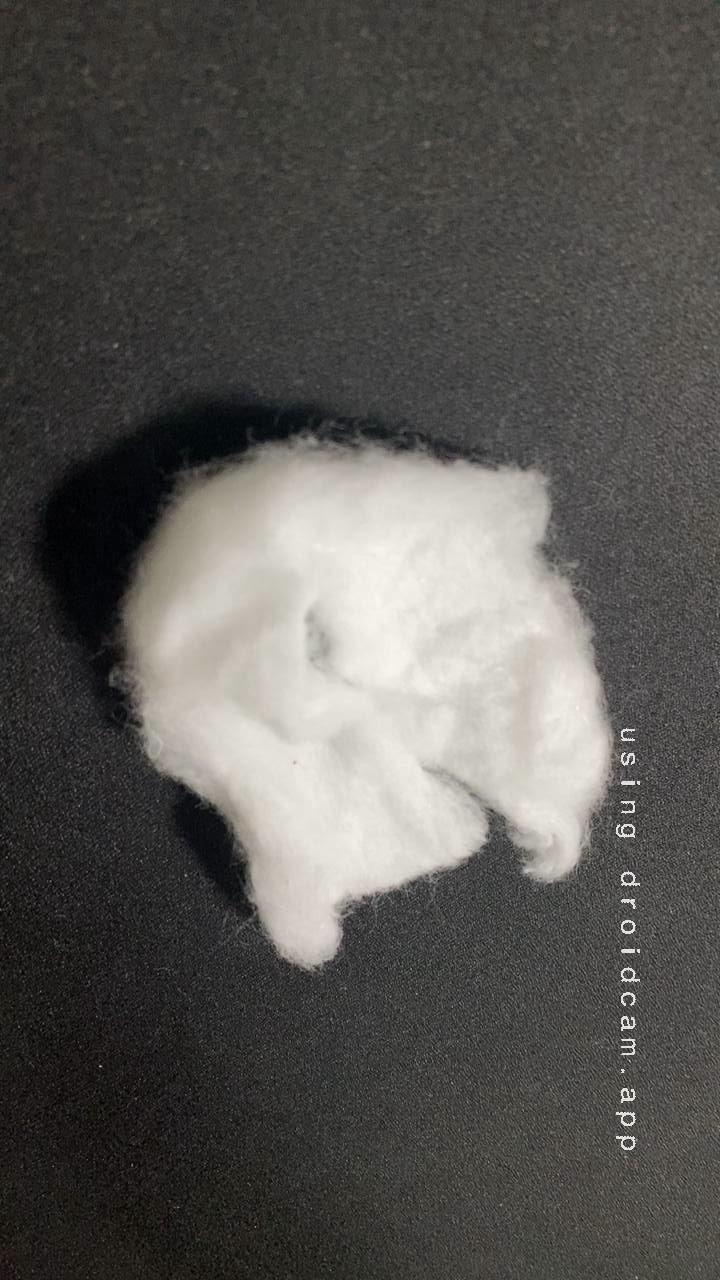cotton: (73, 422, 679, 987)
